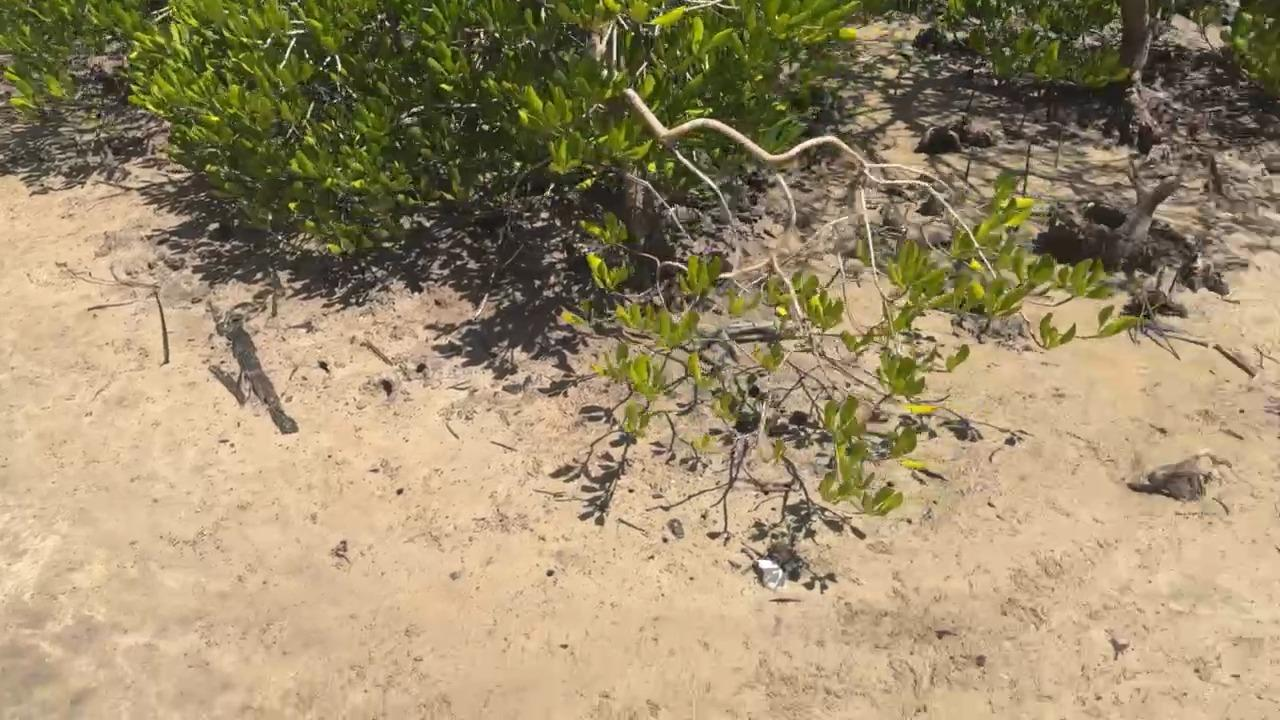Tree: (154, 288, 171, 365), (1022, 145, 1031, 197), (271, 278, 278, 317), (1054, 123, 1060, 166), (965, 158, 970, 183)
